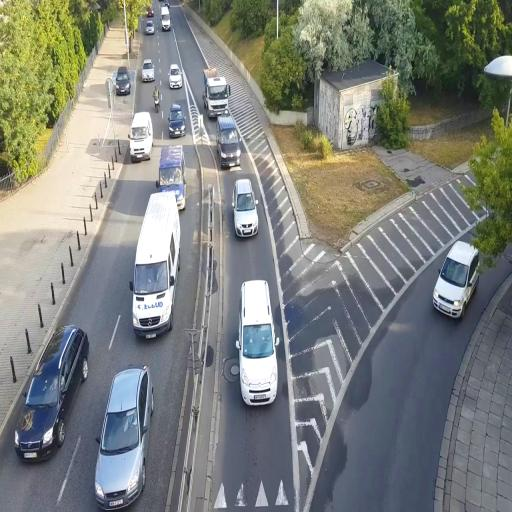vehicle: (14, 324, 90, 462), (94, 364, 155, 509), (131, 190, 181, 339), (238, 278, 278, 406), (432, 240, 480, 322), (157, 146, 186, 210), (232, 178, 260, 240), (129, 112, 153, 162), (203, 72, 230, 115), (168, 102, 186, 138), (114, 68, 132, 96), (168, 64, 184, 90), (141, 60, 155, 82)
